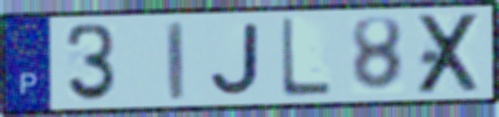3: (62, 21, 119, 104)
8: (348, 15, 407, 97)
I: (163, 19, 188, 103)
J: (207, 21, 262, 98)
L: (277, 15, 333, 100)
X: (414, 10, 485, 97)
